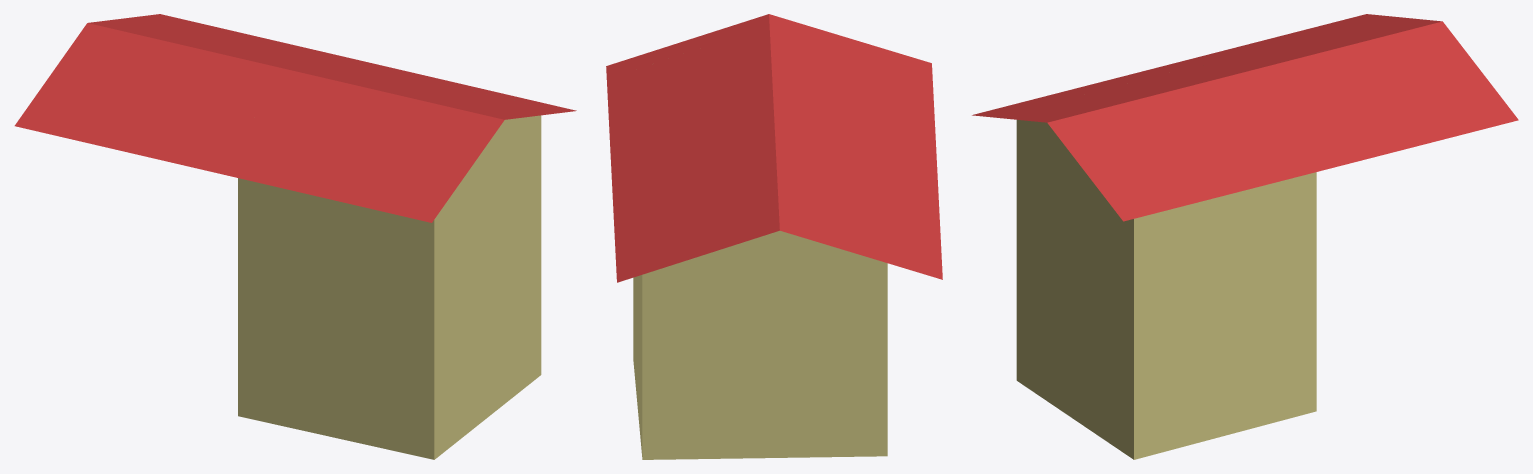
The picture shows the model from 3 angles, left to right: view 1: azimuth 30°, elevation 25°; view 2: azimuth 150°, elevation 25°; view 3: azimuth 270°, elevation 25°; orthographic projection. The views are drawn at different scales.
Size of the model in its own units: 9.38 by 10.47 by 6.3.
